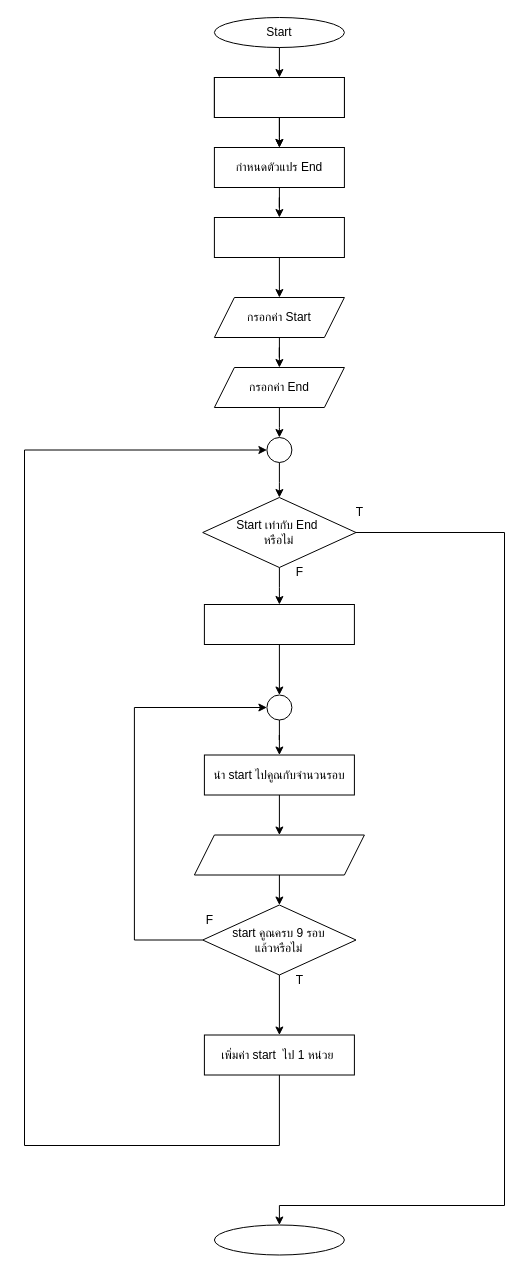
The diagram is 530 pixels wide and 1273 high, and some of its shapes have lost their labels. The shapes that lost their labels are listed below. From the top down, each one's centre as x and y in pixels, then its label:
pixel 278 97: กำหนดตัวแปร Start
pixel 278 237: กำหนดตัวแปร count1
pixel 278 624: กำหนดตัวแปร count 2 = 0
pixel 278 854: ปริ้นค่าของ start ที่ถูกคูณ
pixel 278 1239: END
